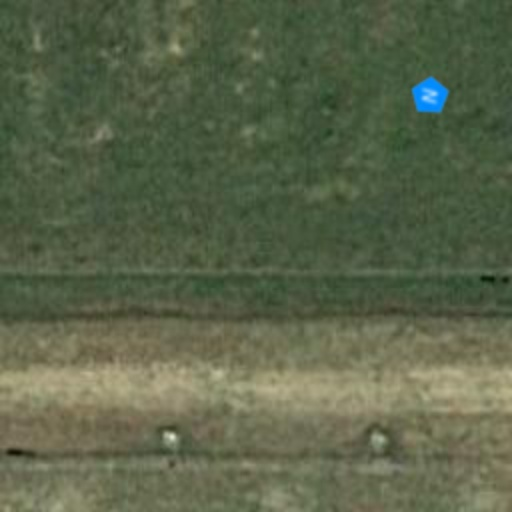pentagon: (408, 74, 452, 118)
